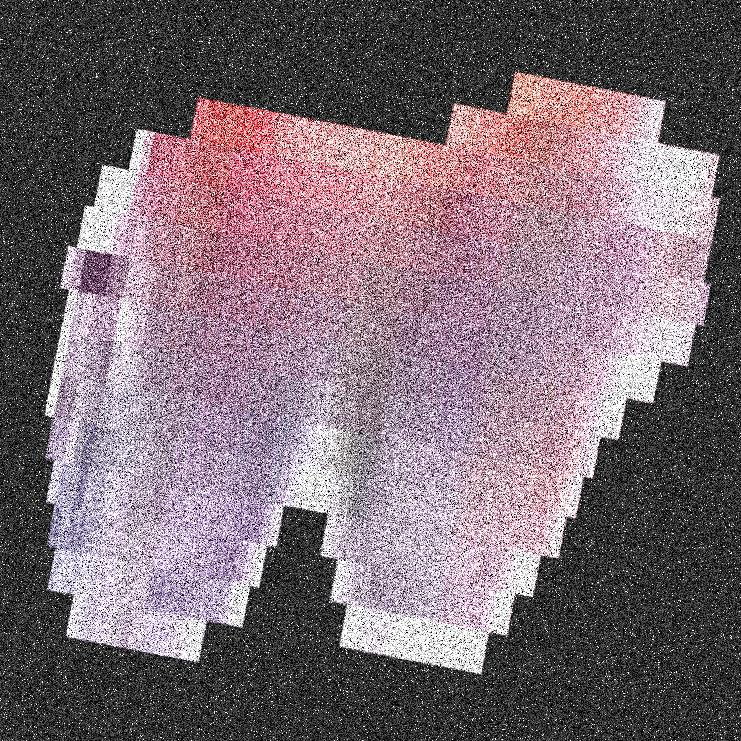Oculos: (148, 0, 671, 740)
